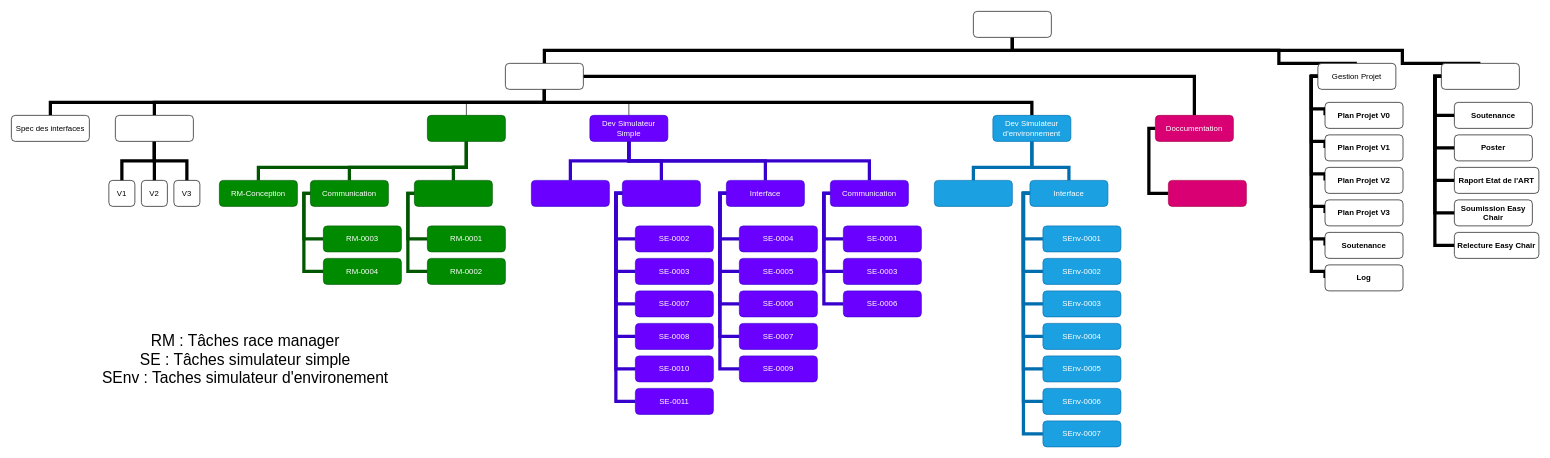
Some shapes in this 1550 by 458 pixel diagram are drawn without their labels. The shapes that lost their labels are listed below. From the top down, each one's centre as x and y in pixels, then its label:
At (x=1012, y=24): "Projet".
At (x=544, y=76): "Dev Logiciel".
At (x=1480, y=76): "Projet TIR".
At (x=154, y=128): "Intégration".
At (x=466, y=128): "Dev Race Manager".
At (x=453, y=193): "Gestion des données".
At (x=570, y=193): "SE-Conception".
At (x=661, y=193): "Modéle".
At (x=973, y=193): "SEnv-Conception".
At (x=1207, y=193): "TP-0004".
